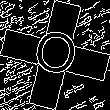O_S: (28, 25, 82, 85)
